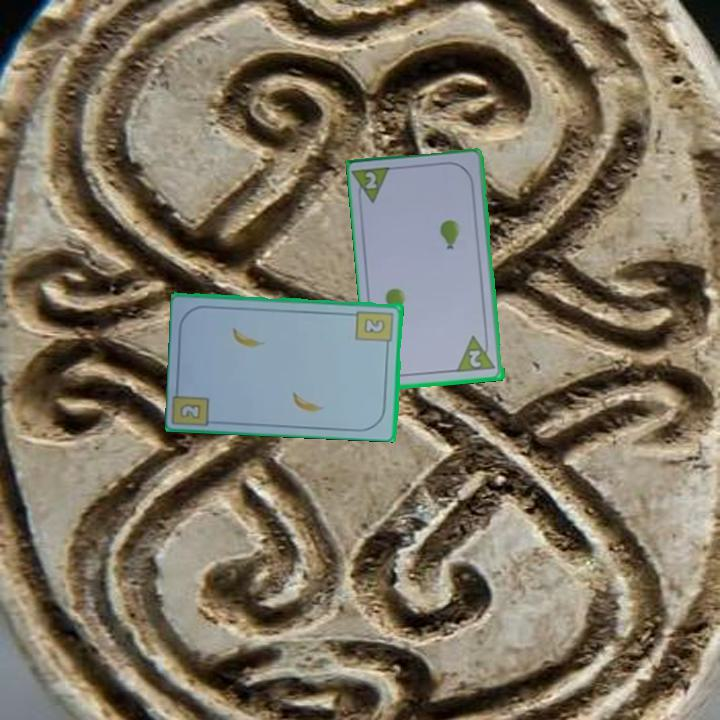2b: (353, 307, 396, 350), (176, 400, 204, 422)
2p: (351, 163, 395, 208), (455, 332, 499, 375)
